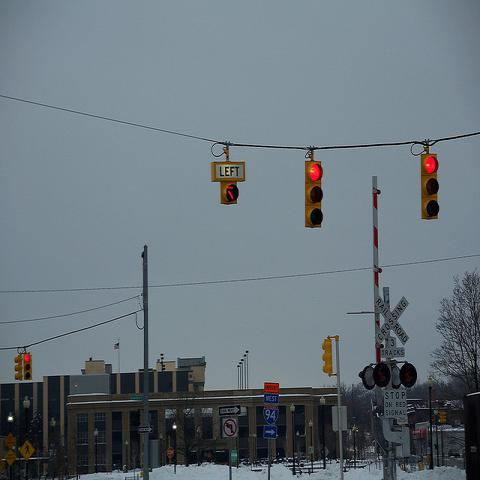car: (448, 449, 460, 457)
